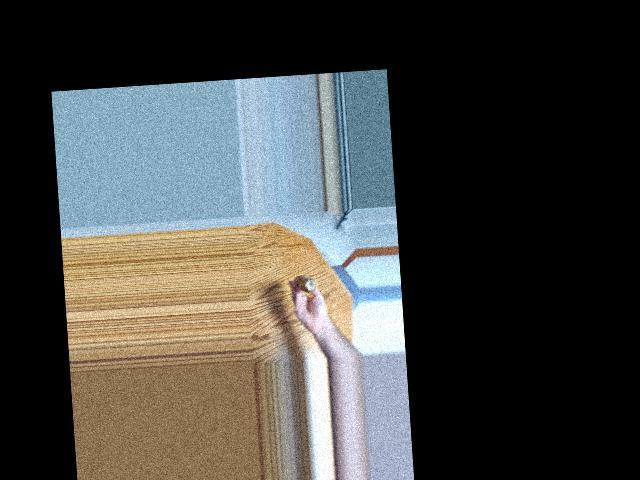sweet_potato: (292, 271, 321, 299)
